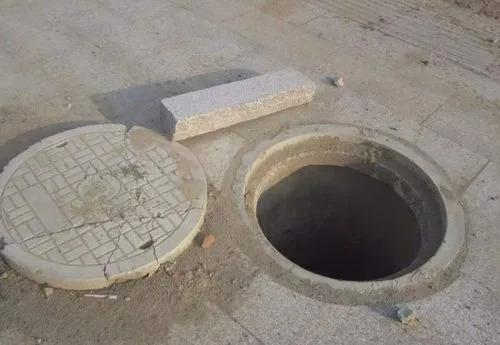wellcover: (0, 69, 485, 320)
